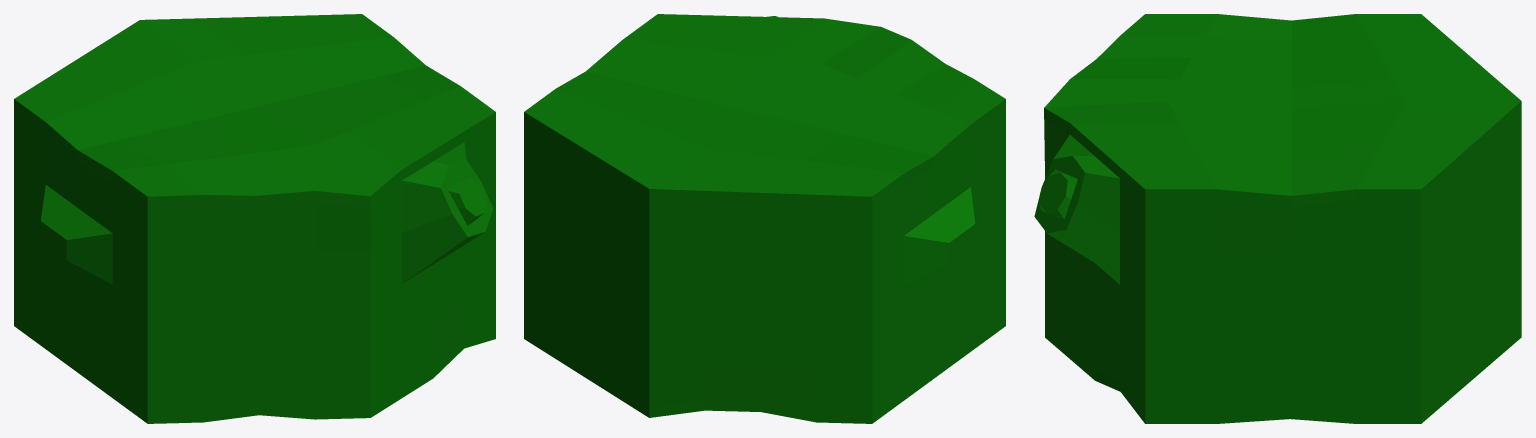
Rendered from tile_leaves.gltf.
3 renders of one model, left to right at view 1: azimuth 30°, elevation 25°; view 2: azimuth 150°, elevation 25°; view 3: azimuth 270°, elevation 25°, orthographic. The views are drawn at different scales.
Visible parts, largest first — view 1: tronc; view 2: tronc; view 3: tronc.
Part boxes in pixels (<box>): tronc: <box>14,14,495,423</box>; tronc: <box>524,14,1005,423</box>; tronc: <box>1034,14,1521,423</box>.
Size of the model in its own units: 1.72 by 1.01 by 1.88.
